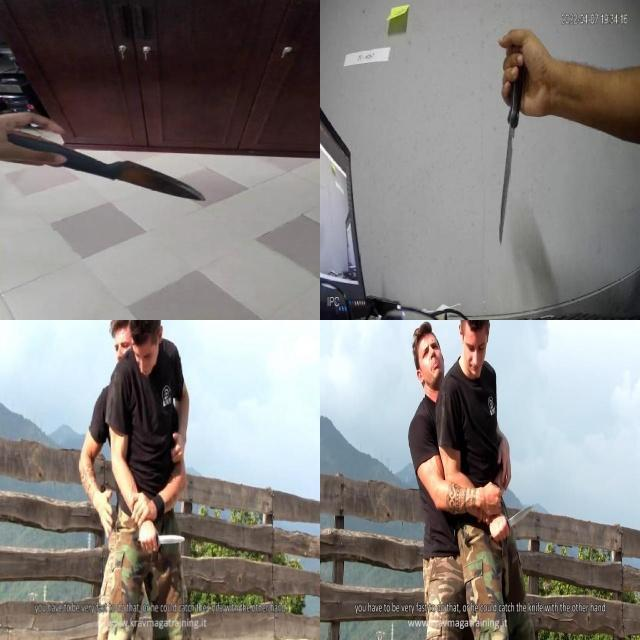-: (71, 143, 206, 203), (495, 45, 525, 249), (487, 498, 534, 545), (135, 522, 187, 551)
